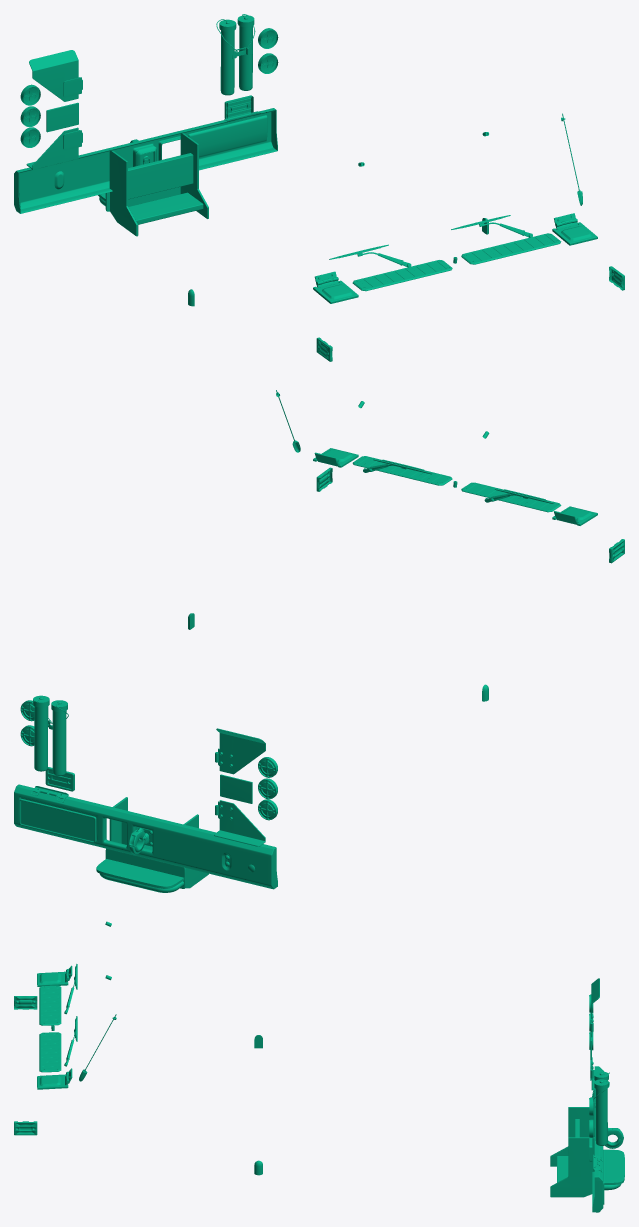
Rendered from FHXY_02BX_A5_FuJian_MD_exp.fbx.
The picture shows the model from 3 angles, top to bottom: view 1: azimuth 30°, elevation 25°; view 2: azimuth 150°, elevation 25°; view 3: azimuth 270°, elevation 25°; orthographic projection. The views are drawn at different scales.
Parts seen in each view (by area): view 1: FHXY_02BX_A5_FuJian_MD_L, mirrored_x_2, mirrored_x_1; view 2: FHXY_02BX_A5_FuJian_MD_L, mirrored_x_2; view 3: FHXY_02BX_A5_FuJian_MD_L, mirrored_x_2, mirrored_x_1.
Part boxes in pixels (x1,y1,x2,y2): FHXY_02BX_A5_FuJian_MD_L: [14, 14, 624, 290]; mirrored_x_2: [352, 260, 452, 291]; mirrored_x_1: [313, 271, 358, 303]; FHXY_02BX_A5_FuJian_MD_L: [14, 390, 553, 892]; mirrored_x_2: [461, 482, 561, 512]; FHXY_02BX_A5_FuJian_MD_L: [14, 964, 624, 1212]; mirrored_x_2: [39, 985, 61, 1025]; mirrored_x_1: [37, 965, 72, 986].
Size of the model in its own units: 187 by 158 by 376.
